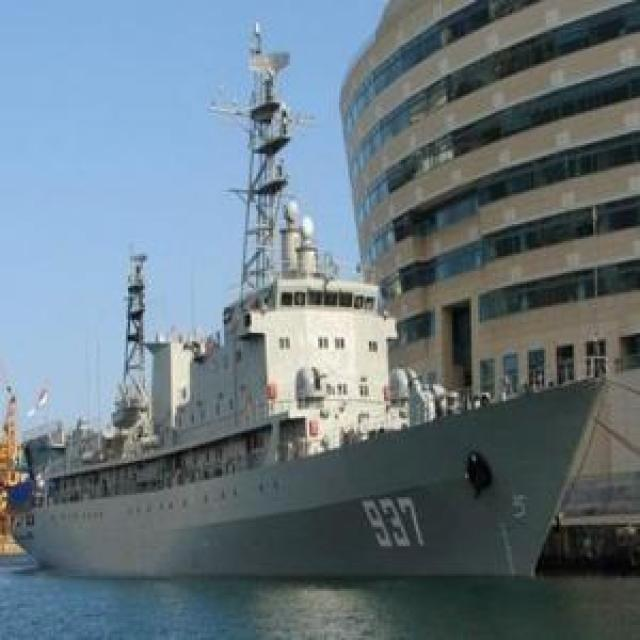navalvessels: (19, 47, 615, 611)
